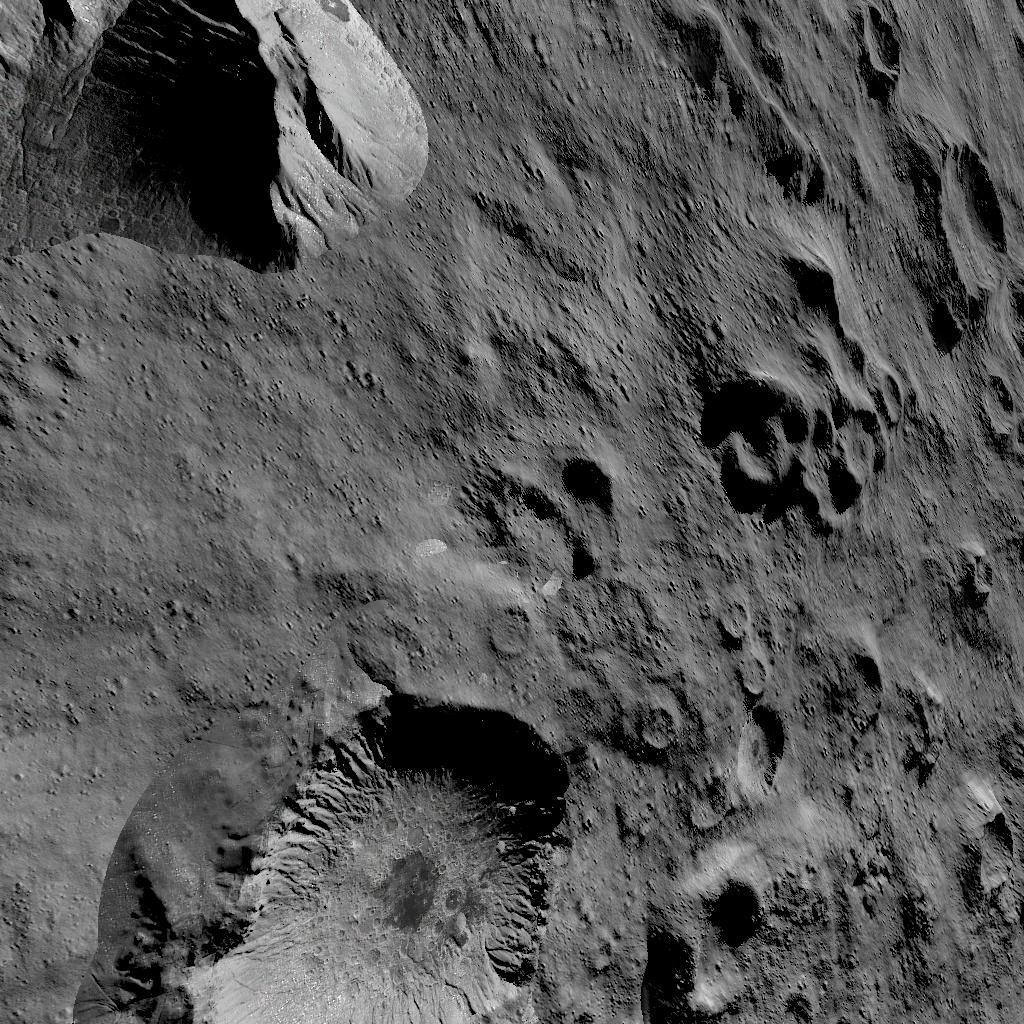Boulders: (0, 0, 430, 275)
Crater: (70, 688, 580, 1024), (684, 218, 904, 566), (644, 845, 770, 1024), (911, 122, 1013, 340), (485, 460, 630, 574), (933, 796, 1024, 912), (817, 636, 881, 738), (940, 542, 1008, 616), (858, 0, 906, 88)
Plan surface: (4, 318, 346, 662)
